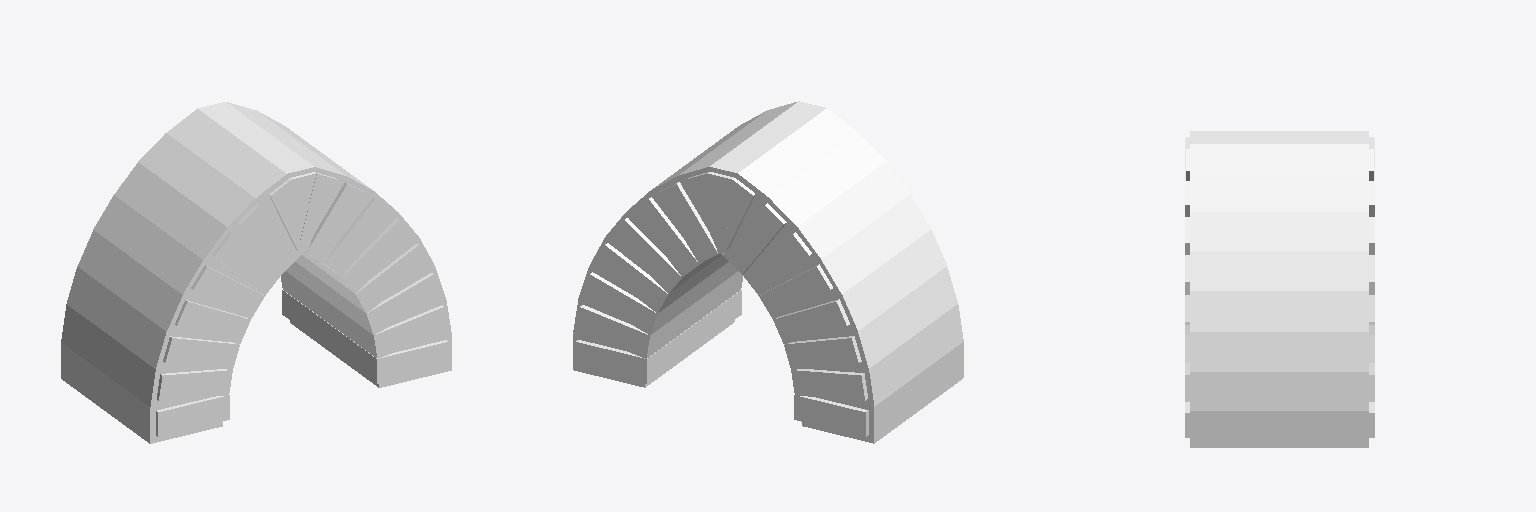
File: lime_mortar_orange_clay_brick_gothic_arch_1.obj
The picture shows the model from 3 angles: view 1: azimuth 30°, elevation 25°; view 2: azimuth 150°, elevation 25°; view 3: azimuth 270°, elevation 25°; orthographic projection.
Visible parts, largest first — view 1: cube.030, cube.028, cube.032, cube.029, cube.031, cube.027, cube.026, cube, cube.025, cube.000, cube.001, cube.002 (+17 smaller); view 2: cube.029, cube.031, cube.030, cube.027, cube.032, cube.028, cube, cube.026, cube.025, cube.000, cube.001, cube.002 (+17 smaller); view 3: cube.011, cube.010, cube.012, cube.009, cube.013, cube.008, cube.014, cube.015, cube.016.
Part boxes in pixels (x1,y1,x2,y2): cube.030: (114, 162, 276, 292); cube.028: (77, 230, 244, 341); cube.032: (167, 109, 316, 247); cube.029: (93, 195, 226, 307); cube.031: (138, 133, 261, 251); cube.027: (67, 267, 195, 369); cube.026: (61, 304, 216, 406); cube: (282, 290, 447, 383); cube.025: (61, 342, 222, 443); cube.000: (281, 271, 447, 358); cube.001: (286, 262, 440, 334); cube.002: (295, 244, 429, 313); cube.029: (764, 194, 930, 316); cube.031: (733, 133, 886, 269); cube.030: (776, 162, 909, 282); cube.027: (794, 267, 957, 371); cube.032: (738, 108, 857, 232); cube.028: (819, 229, 946, 334); cube: (576, 290, 741, 383); cube.026: (844, 304, 963, 406); cube.025: (802, 342, 963, 443); cube.000: (576, 271, 742, 358); cube.001: (583, 262, 737, 334); cube.002: (594, 243, 728, 313); cube.011: (1190, 291, 1368, 331); cube.010: (1190, 332, 1368, 371); cube.012: (1190, 251, 1368, 290); cube.009: (1190, 372, 1368, 410); cube.013: (1190, 212, 1368, 250); cube.008: (1190, 411, 1368, 447); cube.014: (1190, 176, 1368, 211); cube.015: (1190, 144, 1368, 175); cube.016: (1190, 131, 1368, 143).
Bounding box in the file's own units: 1.98 × 1.49 × 1.08.